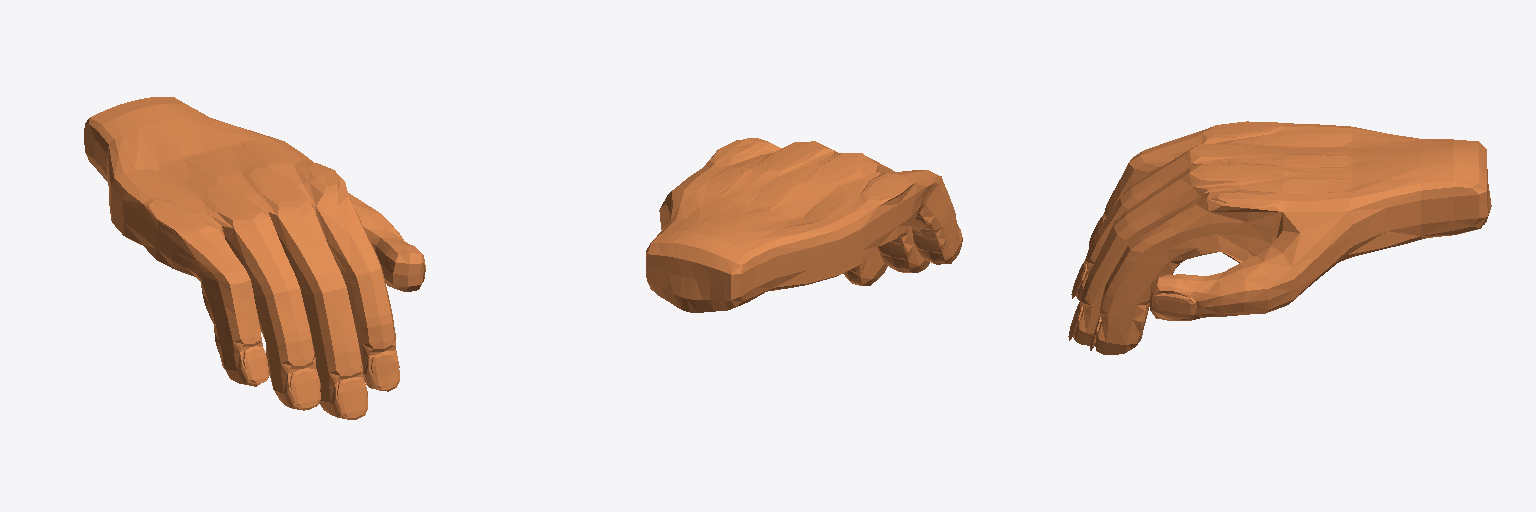
The model's file is hand4.obj.
The picture shows the model from 3 angles: view 1: azimuth 30°, elevation 25°; view 2: azimuth 150°, elevation 25°; view 3: azimuth 270°, elevation 25°; orthographic projection.
Parts seen in each view (by area): view 1: Box001; view 2: Box001; view 3: Box001.
Boxes of the visible parts, x1=… form: Box001: x1=84, y1=97, x2=425, y2=419; Box001: x1=646, y1=138, x2=962, y2=312; Box001: x1=1068, y1=121, x2=1491, y2=354.
Size of the model in its own units: 196 by 146 by 309.